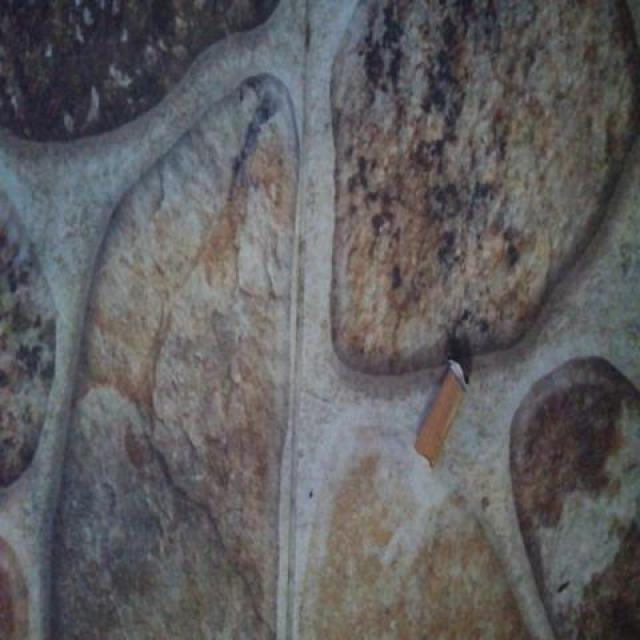non-organic waste: (412, 352, 472, 472)
